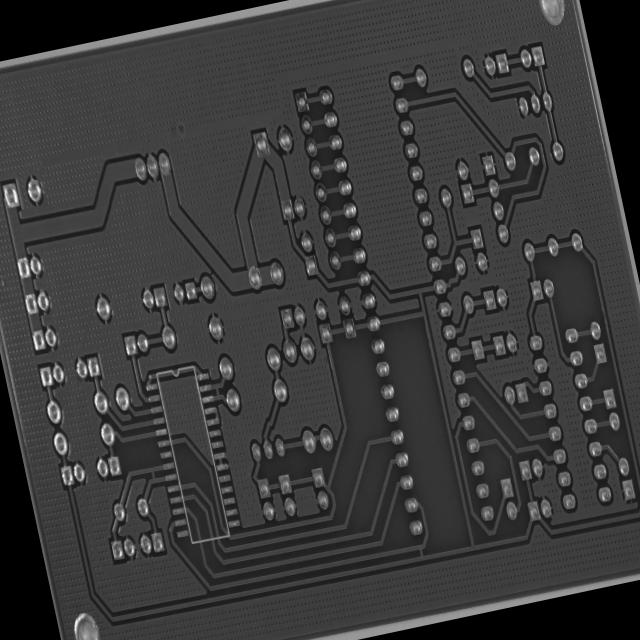short: (412, 538, 431, 564), (144, 462, 162, 488), (209, 380, 225, 402)
